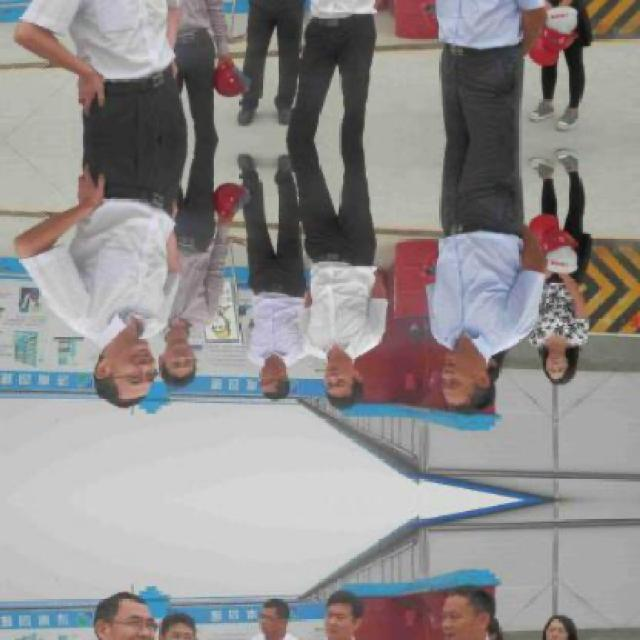sin casco: (67, 294, 174, 416), (416, 329, 516, 420), (502, 336, 608, 388), (152, 317, 212, 397), (316, 328, 362, 414), (250, 346, 301, 414)
